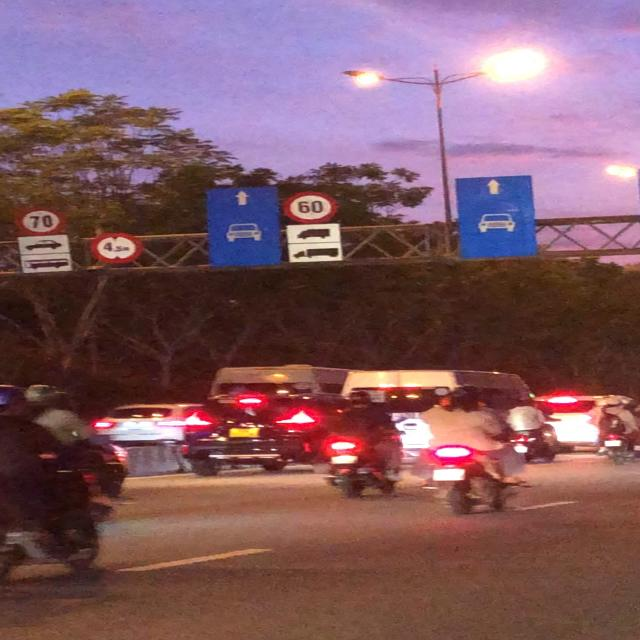Bien bao han che chieu cao: (90, 228, 148, 266)
Bien bao toc do toi da cho phep: (278, 190, 344, 224), (10, 204, 66, 236)
